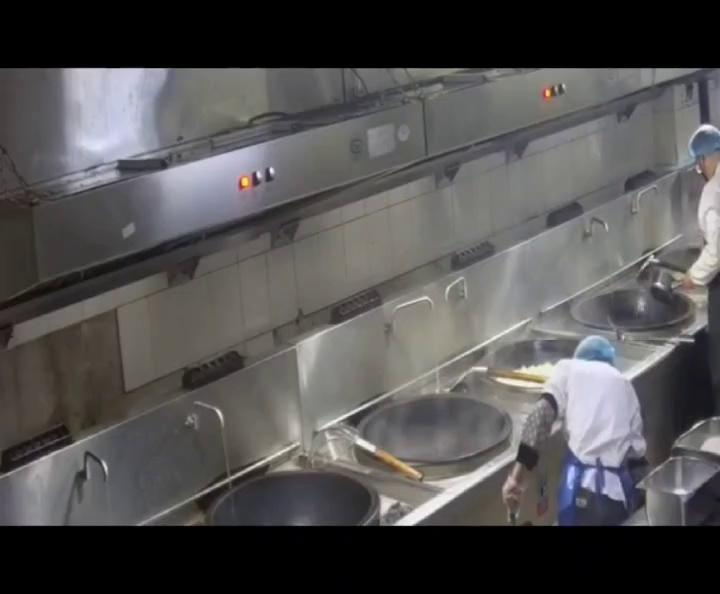apron: (502, 472, 525, 514)
gloves: (688, 124, 720, 161), (572, 335, 618, 356)
